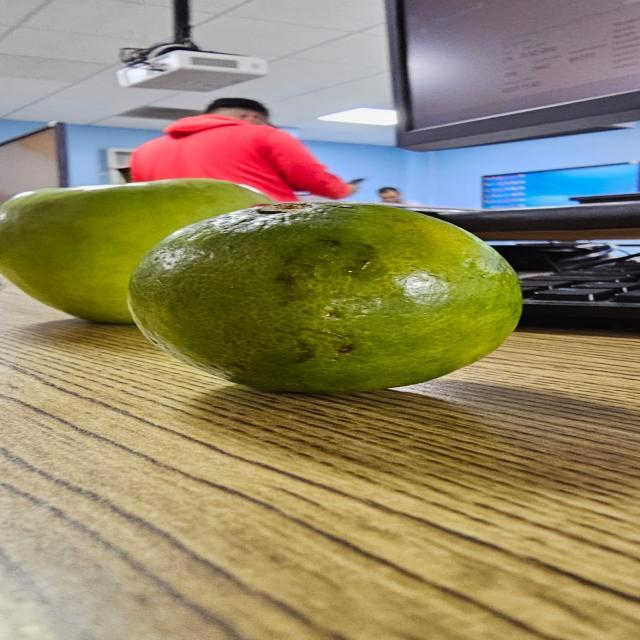Apel Granny Smith: (0, 172, 308, 332)
Lemon: (130, 200, 538, 407)
